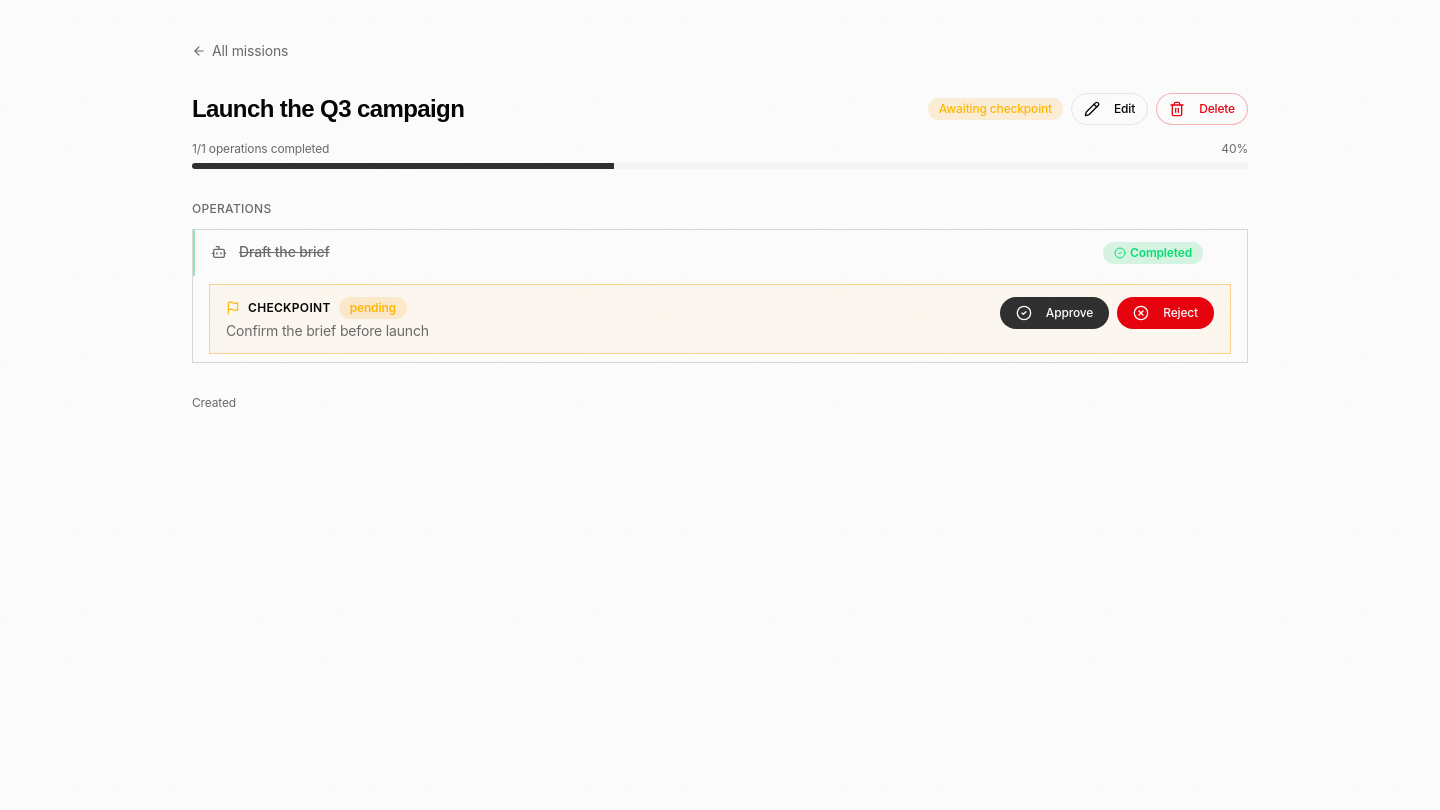
it: MissionDetailPage (AlertDialog migrated to Base UI) › opens the reject confirmation as a real alertdialog and fires the real reject mutation on confirm
Later steps or results of the test are not shown.
Click the button "Reject" at (1166, 313), box [1117, 297, 1214, 329]
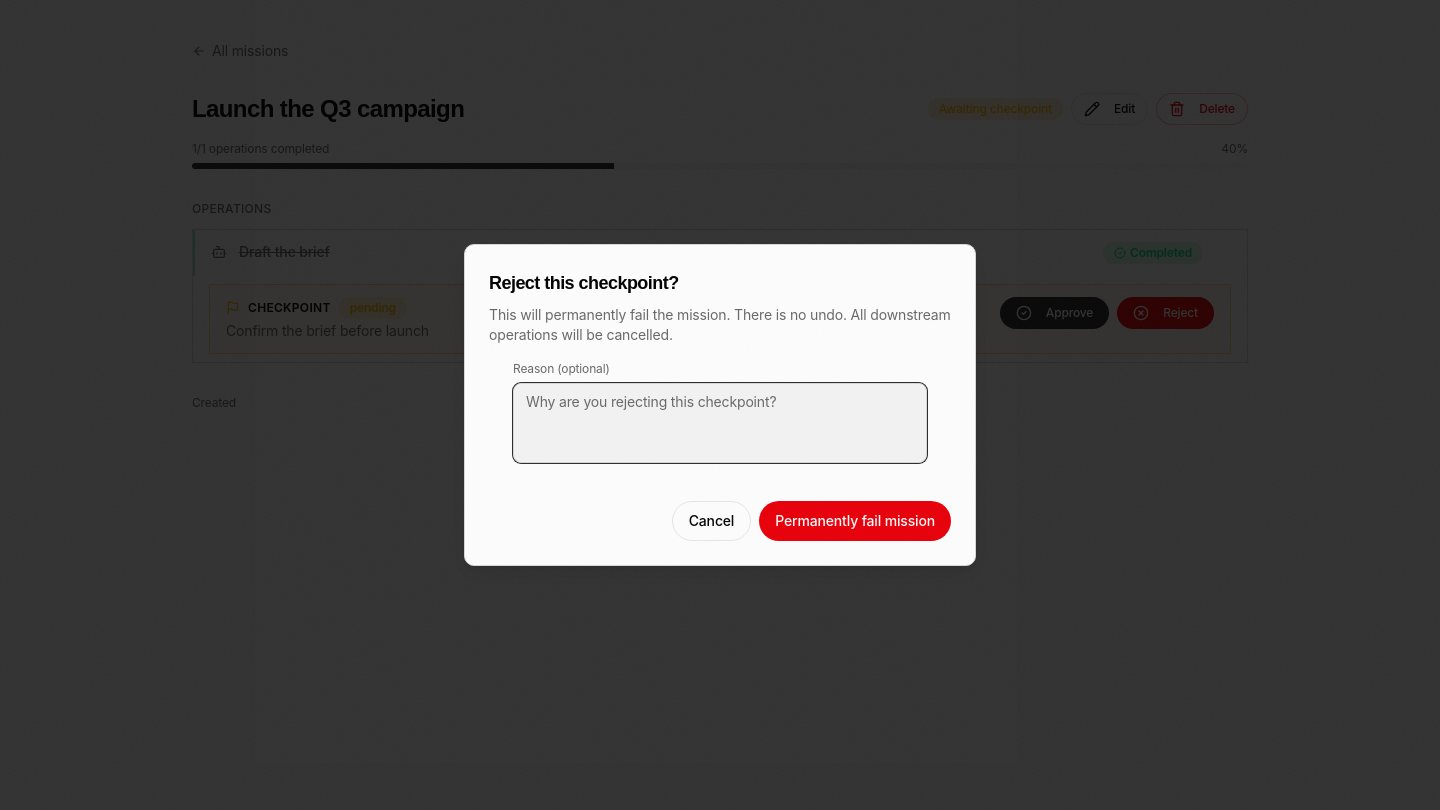
Expected: the dialog is shown, [464, 244, 976, 566]
Expected: the heading "Reject this checkpoint?" is shown, [489, 273, 679, 293]
